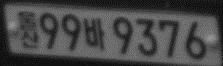3: (134, 17, 157, 56)
6: (184, 20, 206, 60)
7: (158, 19, 180, 57)
9: (112, 16, 133, 54), (61, 13, 81, 51), (39, 12, 59, 49)
바: (83, 17, 106, 50)
울산_V: (17, 9, 39, 49)
